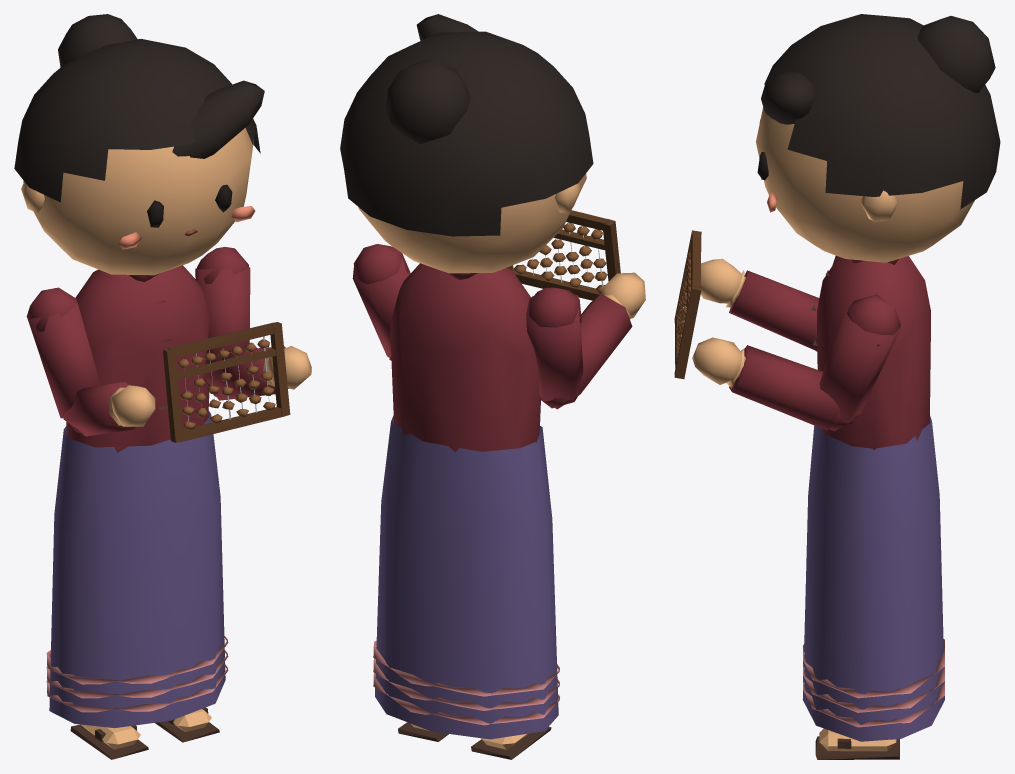
The model's file is era2_abacus_woman.glb.
3 renders of one model, left to right at view 1: azimuth 30°, elevation 25°; view 2: azimuth 150°, elevation 25°; view 3: azimuth 270°, elevation 25°, orthographic. The views are drawn at different scales.
Parts seen in each view (by area): view 1: body, head, prop_abacus, arm_R, arm_L, forearm_R, forearm_L, shin_R, shin_L; view 2: body, head, arm_R, prop_abacus, forearm_R, arm_L, shin_R; view 3: body, head, forearm_L, arm_L, forearm_R, prop_abacus, shin_L.
Part boxes in pixels (bbox=[...]): body: bbox=[46, 265, 228, 728]; head: bbox=[14, 14, 264, 275]; prop_abacus: bbox=[163, 322, 290, 442]; arm_R: bbox=[26, 287, 100, 433]; arm_L: bbox=[195, 247, 250, 400]; forearm_R: bbox=[63, 382, 155, 436]; forearm_L: bbox=[204, 346, 311, 400]; shin_R: bbox=[70, 724, 148, 759]; shin_L: bbox=[155, 707, 219, 742]; body: bbox=[373, 263, 559, 739]; head: bbox=[340, 14, 593, 273]; arm_R: bbox=[526, 287, 583, 409]; prop_abacus: bbox=[507, 210, 620, 300]; forearm_R: bbox=[540, 272, 645, 408]; arm_L: bbox=[352, 244, 410, 360]; shin_R: bbox=[471, 727, 551, 759]; body: bbox=[802, 256, 944, 741]; head: bbox=[756, 14, 1000, 262]; forearm_L: bbox=[692, 337, 854, 430]; arm_L: bbox=[819, 294, 901, 431]; forearm_R: bbox=[700, 258, 819, 350]; prop_abacus: bbox=[674, 230, 701, 379]; shin_L: bbox=[815, 728, 899, 759].
Size of the model in its own units: 0.4966 by 1.47 by 0.6086.
